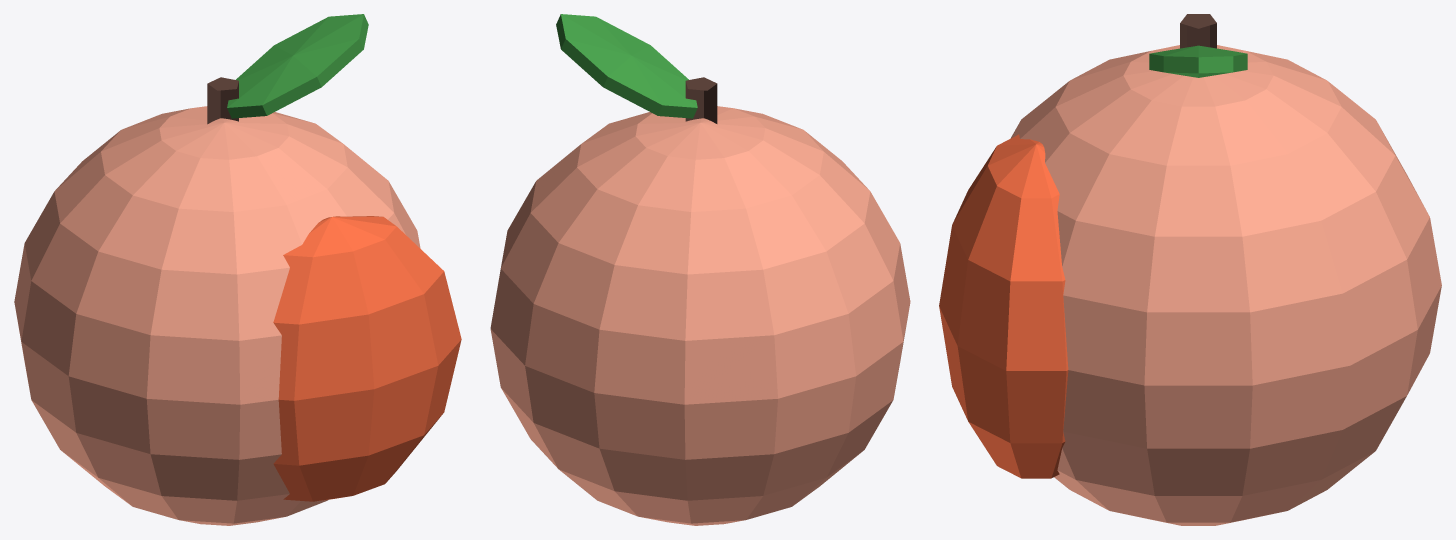
File: persika.glb
3 renders of one model, left to right at view 1: azimuth 30°, elevation 25°; view 2: azimuth 150°, elevation 25°; view 3: azimuth 270°, elevation 25°, orthographic. The views are drawn at different scales.
Visible parts, largest first — view 1: persika; view 2: persika; view 3: persika.
Boxes of the visible parts, box(x1,y1,x2,y2) form: persika: box(14, 14, 461, 525); persika: box(490, 14, 910, 525); persika: box(939, 14, 1441, 525).
Size of the model in its own units: 0.2925 by 0.3582 by 0.31.
